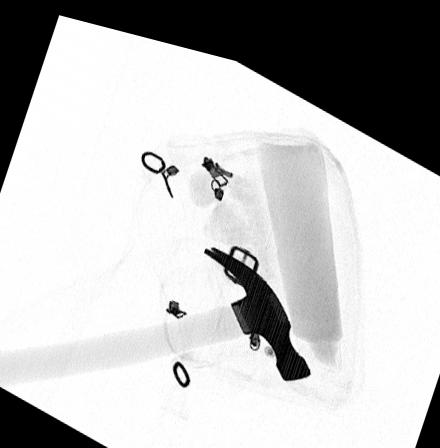Hammer: (0, 234, 312, 386)
